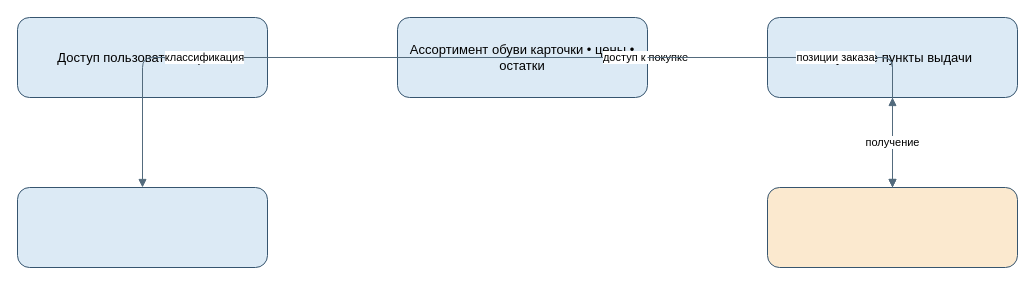
Image size: 1035x285. Some labels were removed from this diagram. Each missing label, with the centre of its shape:
Продажи заказы • строки • статусы: point 892,227
Справочники категории • производители • поставщики: point 142,227
